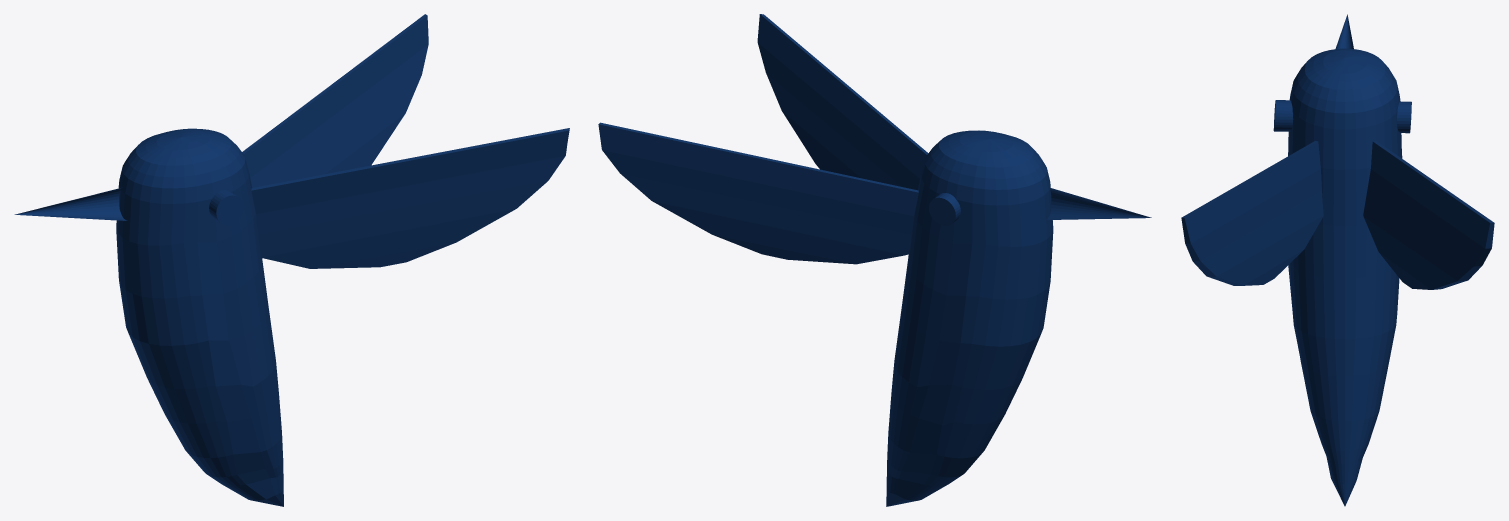
File: flyblueblend.d0864cdf.glb
The picture shows the model from 3 angles, left to right: view 1: azimuth 30°, elevation 25°; view 2: azimuth 150°, elevation 25°; view 3: azimuth 270°, elevation 25°; orthographic projection.
Parts seen in each view (by area): view 1: Sphere; view 2: Sphere; view 3: Sphere.
Boxes of the visible parts, x1,y1,x2,y2 form: Sphere: [14, 14, 569, 506]; Sphere: [598, 14, 1151, 506]; Sphere: [1181, 14, 1494, 506].
Size of the model in its own units: 3.03 by 2.36 by 1.68.
